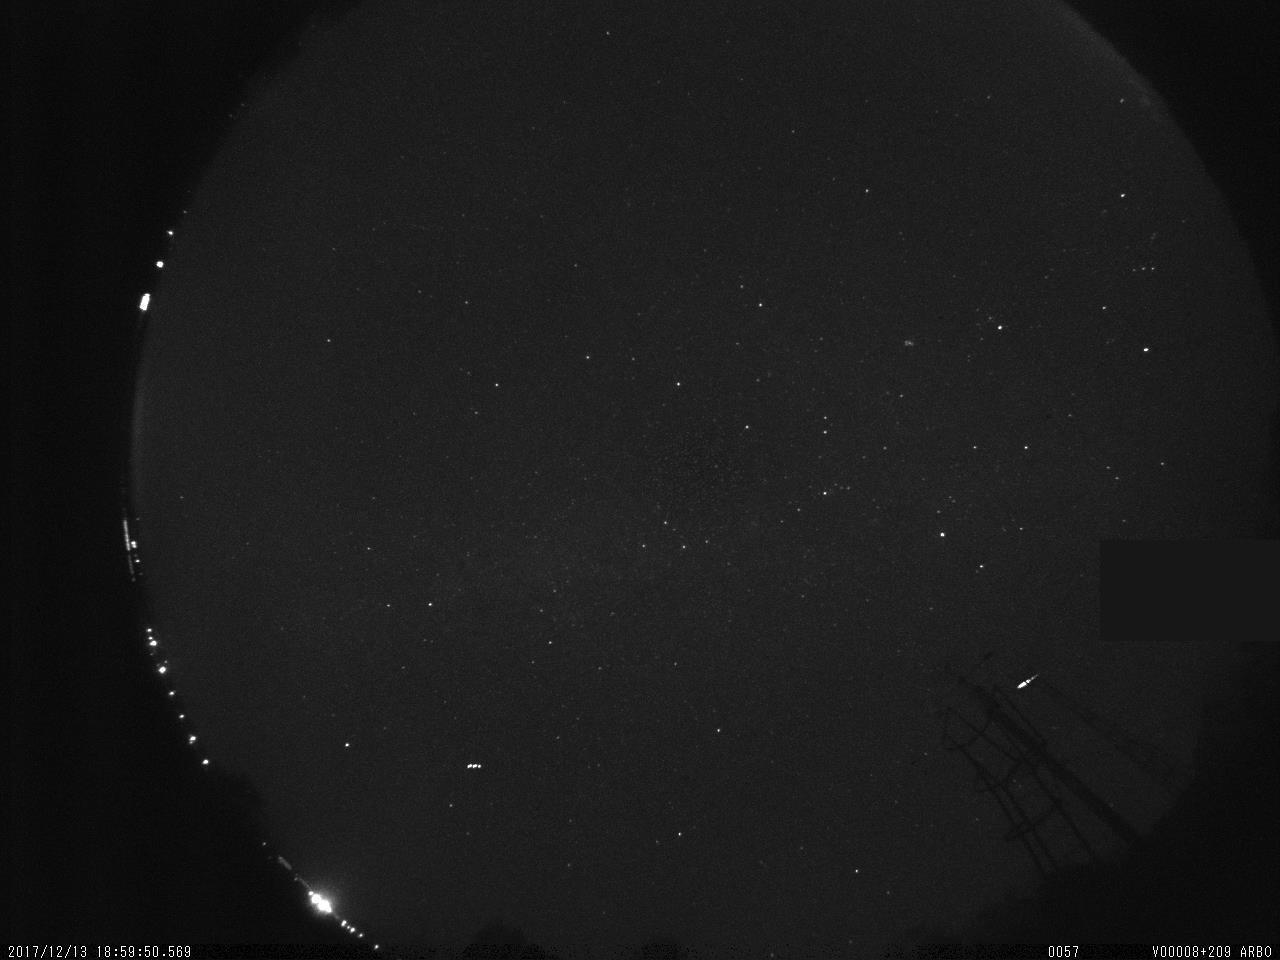meteor: (1006, 663, 1044, 702)
